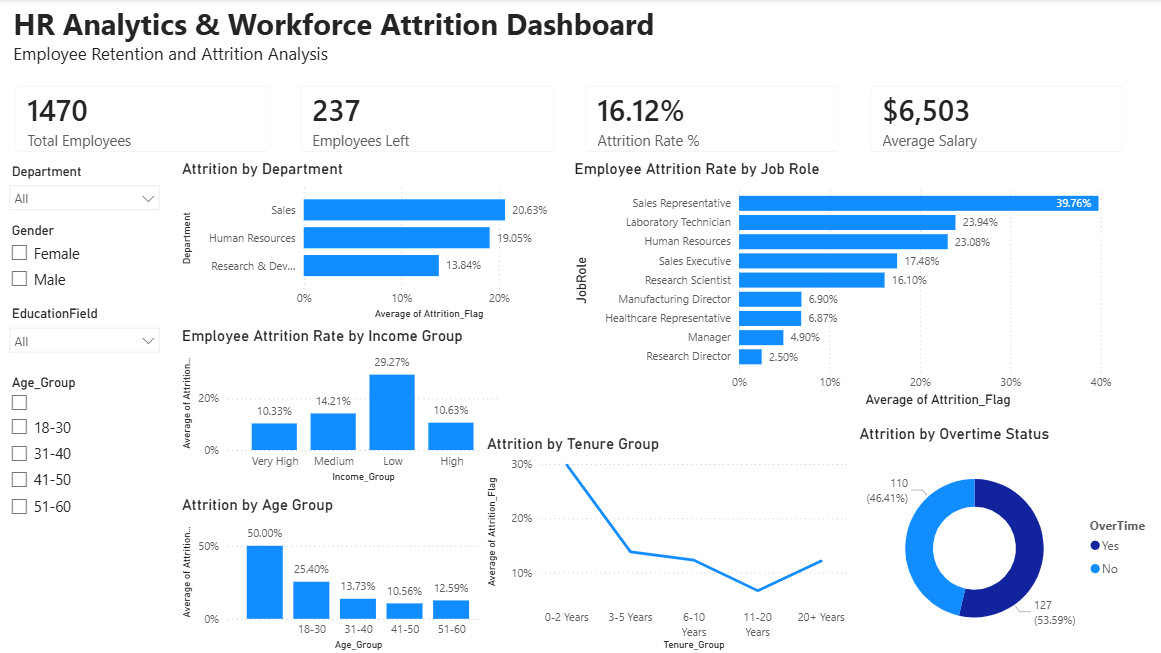

Layout of this report page (visuals, bound fields, positions):
{"tool":"powerbi","page":{"name":"Page 1: Executive Overview","canvas":[1280,720],"ordinal":0},"visuals":[{"type":"textbox","box":[9.6,0,1270.7,78.2],"z":0},{"type":"cardVisual","fields":{"Data":["hr_cleaned.Total Employees"]},"box":[0,78.2,312.9,107],"z":1000},{"type":"cardVisual","fields":{"Data":["hr_cleaned.Attrition Rate %"]},"box":[625.7,78.2,312.9,107],"z":2000},{"type":"cardVisual","fields":{"Data":["hr_cleaned.Employees Left"]},"box":[312.9,78.2,312.9,107],"z":3000},{"type":"cardVisual","fields":{"Data":["hr_cleaned.Average Salary"]},"box":[938.6,78.2,312.9,107],"z":4000},{"type":"clusteredBarChart","title":"Attrition by Department","fields":{"Category":["hr_cleaned.Department"],"Y":["Avg(hr_cleaned.Attrition_Flag)"]},"box":[194.9,175.6,430.9,181.1],"z":5000},{"type":"clusteredBarChart","title":"Employee Attrition Rate by Job Role","fields":{"Category":["hr_cleaned.JobRole"],"Y":["Avg(hr_cleaned.Attrition_Flag)"]},"box":[625.7,175.6,639.5,277.2],"z":6000},{"type":"clusteredColumnChart","title":"Attrition by Age Group","fields":{"Category":["hr_cleaned.Age_Group"],"Y":["Avg(hr_cleaned.Attrition_Flag)"]},"box":[194.9,544.8,347.2,175.6],"z":7000},{"type":"clusteredColumnChart","title":"Employee Attrition Rate by Income Group","fields":{"Category":["hr_cleaned.Income_Group"],"Y":["Avg(hr_cleaned.Attrition_Flag)"]},"box":[194.9,359.5,358.1,175.6],"z":8000},{"type":"donutChart","title":"Attrition by Overtime Status","fields":{"Category":["hr_cleaned.OverTime"],"Y":["hr_cleaned.Employees Left"]},"box":[938.6,466.6,341.7,253.9],"z":9000},{"type":"lineChart","title":"Attrition by Tenure Group","fields":{"Category":["hr_cleaned.Tenure_Group"],"Y":["Avg(hr_cleaned.Attrition_Flag)"]},"box":[529.7,477.5,408.9,242.9],"z":10000},{"type":"slicer","fields":{"Values":["hr_cleaned.Department"]},"box":[0,175.6,185.2,64.5],"z":11000},{"type":"slicer","fields":{"Values":["hr_cleaned.Gender"]},"box":[0,240.1,194.9,91.9],"z":12000},{"type":"slicer","fields":{"Values":["hr_cleaned.EducationField"]},"box":[0,332.1,185.2,83.7],"z":13000},{"type":"slicer","fields":{"Values":["hr_cleaned.Age_Group"]},"box":[0,407.5,185.2,189.4],"z":14000}]}

Visuals, with their boxes in screenshot pixels (x1, y1, x2, y2), scaled from the page's 1280x720 canvas onto the 1161x653 screenshot:
textbox: <box>9,0,1160,71</box>
cardVisual - hr_cleaned.Total Employees: <box>0,71,284,168</box>
cardVisual - hr_cleaned.Attrition Rate %: <box>568,71,851,168</box>
cardVisual - hr_cleaned.Employees Left: <box>284,71,568,168</box>
cardVisual - hr_cleaned.Average Salary: <box>851,71,1135,168</box>
"Attrition by Department" clusteredBarChart: <box>177,159,568,324</box>
"Employee Attrition Rate by Job Role" clusteredBarChart: <box>568,159,1148,411</box>
"Attrition by Age Group" clusteredColumnChart: <box>177,494,492,652</box>
"Employee Attrition Rate by Income Group" clusteredColumnChart: <box>177,326,502,485</box>
"Attrition by Overtime Status" donutChart: <box>851,423,1160,652</box>
"Attrition by Tenure Group" lineChart: <box>480,433,851,652</box>
slicer - hr_cleaned.Department: <box>0,159,168,218</box>
slicer - hr_cleaned.Gender: <box>0,218,177,301</box>
slicer - hr_cleaned.EducationField: <box>0,301,168,377</box>
slicer - hr_cleaned.Age_Group: <box>0,370,168,541</box>
